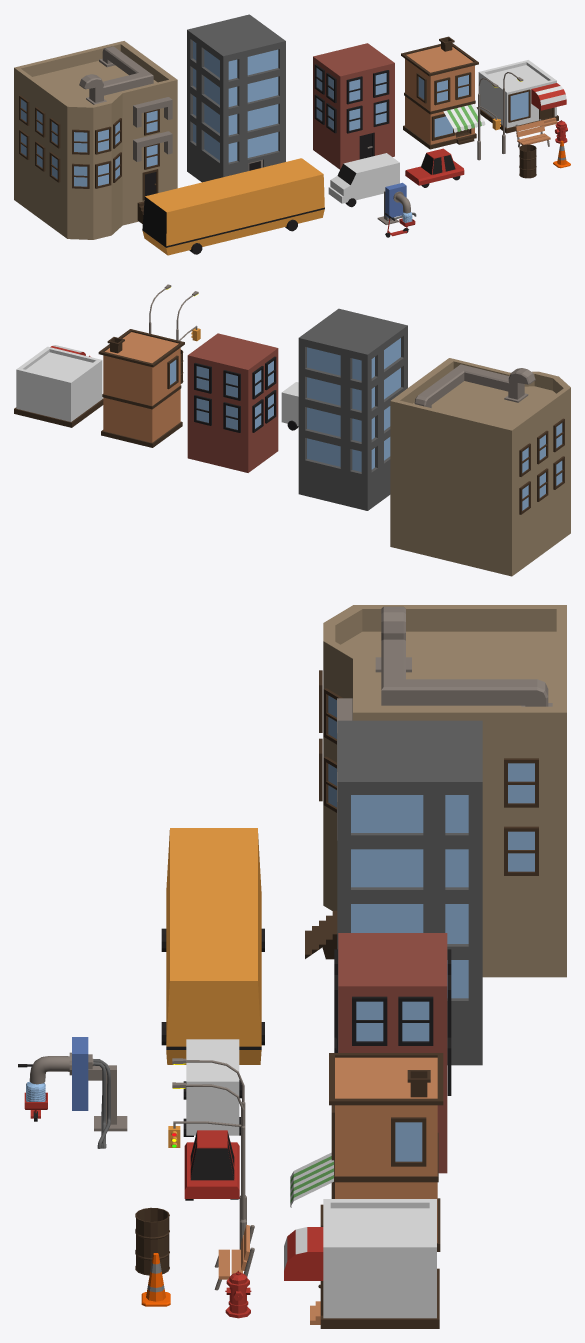
The model's file is gp1 buildings with transform (1).fbx.
3 views of the same model, one above another, from view 1: azimuth 30°, elevation 25°; view 2: azimuth 150°, elevation 25°; view 3: azimuth 270°, elevation 25° (orthographic). The views are drawn at different scales.
Visible parts, largest first — view 1: big house, tall apartment, longer bus, medium apartment, small house, kiosk, van, car, water machine, bench, barrel, lamp with traffic light; view 2: big house, tall apartment, medium apartment, small house, kiosk, van; view 3: big house, tall apartment, longer bus, small house, kiosk, medium apartment, van, water machine, car, barrel, bench, lamp with traffic light (+3 smaller).
Part boxes in pixels (x1,y1,x2,y2): big house: [14, 41, 177, 239]; tall apartment: [187, 14, 285, 182]; longer bus: [142, 158, 324, 255]; medium apartment: [313, 43, 394, 169]; small house: [401, 36, 485, 149]; kiosk: [476, 60, 566, 133]; van: [328, 153, 399, 207]; car: [405, 148, 464, 187]; water machine: [377, 182, 416, 224]; bench: [515, 119, 550, 147]; barrel: [519, 144, 536, 178]; lamp with traffic light: [477, 78, 500, 160]; big house: [390, 358, 570, 576]; tall apartment: [298, 308, 407, 510]; medium apartment: [187, 333, 278, 472]; small house: [98, 329, 184, 447]; kiosk: [14, 345, 103, 427]; van: [281, 382, 298, 430]; big house: [305, 605, 566, 977]; tall apartment: [337, 720, 482, 1065]; longer bus: [161, 828, 264, 1064]; small house: [290, 1053, 443, 1251]; kiosk: [284, 1199, 439, 1328]; medium apartment: [334, 933, 451, 1173]; van: [183, 1039, 241, 1136]; water machine: [29, 1037, 127, 1148]; car: [184, 1130, 239, 1200]; barrel: [135, 1207, 169, 1275]; bench: [214, 1224, 254, 1290]; lamp with traffic light: [168, 1058, 246, 1220].
Bounding box in the file's own units: 3958 × 1164 × 1940.
